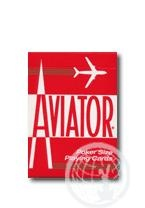grozi_57: (27, 51, 121, 185)
